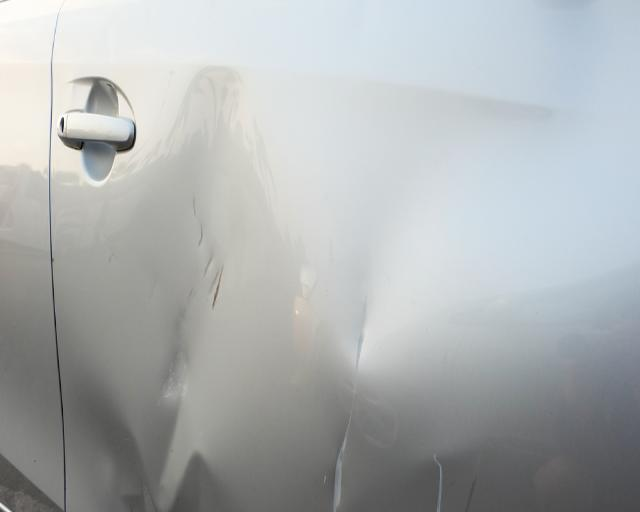dent: (75, 69, 270, 512), (312, 229, 429, 512)
